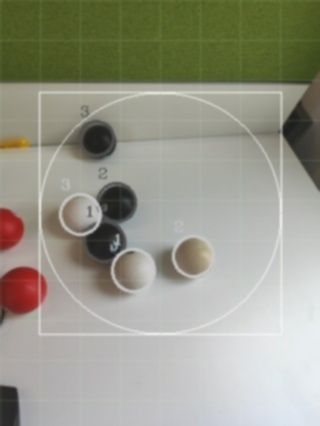Pelota blanca: (281, 73, 320, 191), (108, 246, 155, 294), (58, 190, 102, 238), (169, 236, 214, 280)
Pelota negra: (76, 118, 118, 160), (95, 180, 137, 222), (0, 385, 20, 425)
Pelota roja: (0, 265, 49, 315), (0, 206, 25, 251)
